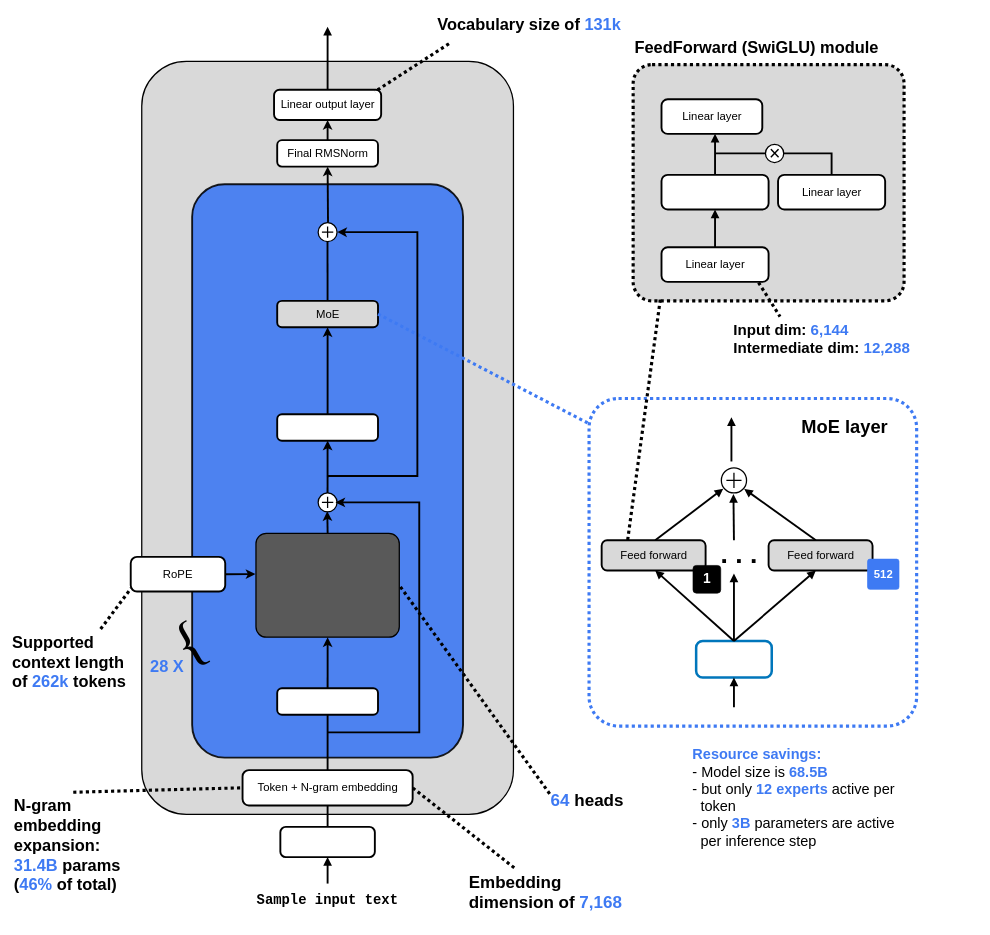
Image size: 990x935. Some labels were removed from this diagram. The centre of each missing label's shape, as x and y in pixels:
Multi-head Latent Attention: (x=327, y=585)
RMSNorm 1: (x=327, y=701)
RMSNorm 2: (x=327, y=427)
Router: (x=734, y=659)
SiLU activation: (x=714, y=192)
Tokenized text: (x=327, y=842)
